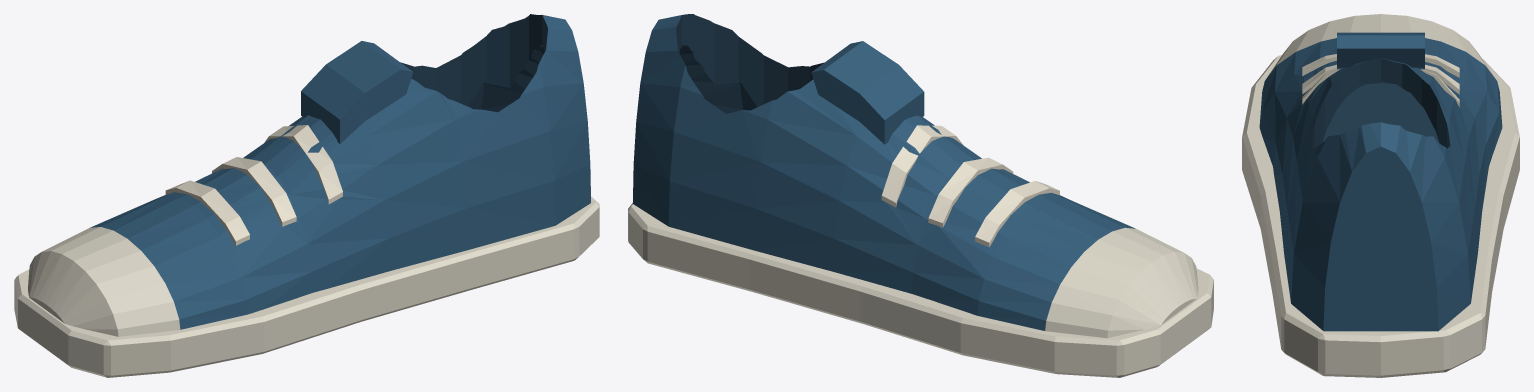
File: sneaker-detail-trial.glb
3 views of the same model, side by side, from view 1: azimuth 30°, elevation 25°; view 2: azimuth 150°, elevation 25°; view 3: azimuth 270°, elevation 25° (orthographic). The views are drawn at different scales.
Parts seen in each view (by area): view 1: Sneaker detail; view 2: Sneaker detail; view 3: Sneaker detail.
Boxes of the visible parts, x1=… form: Sneaker detail: x1=14, y1=14, x2=599, y2=377; Sneaker detail: x1=628, y1=14, x2=1213, y2=377; Sneaker detail: x1=1242, y1=14, x2=1519, y2=377.
Size of the model in its own units: 0.3 by 0.1136 by 0.12.
